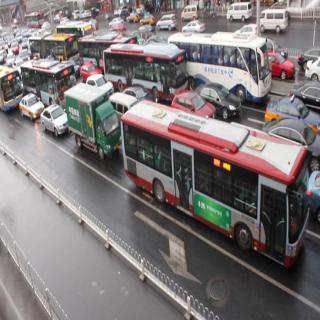BigCar: (121, 106, 302, 276), (162, 29, 272, 97), (104, 39, 189, 91)
Car: (63, 88, 117, 163), (201, 79, 238, 113), (257, 8, 288, 38), (270, 46, 292, 83), (41, 112, 63, 144), (20, 92, 40, 121), (226, 4, 253, 24), (158, 14, 178, 32), (81, 60, 99, 76), (185, 20, 205, 33), (109, 15, 125, 28), (141, 12, 155, 25), (7, 50, 16, 66)
